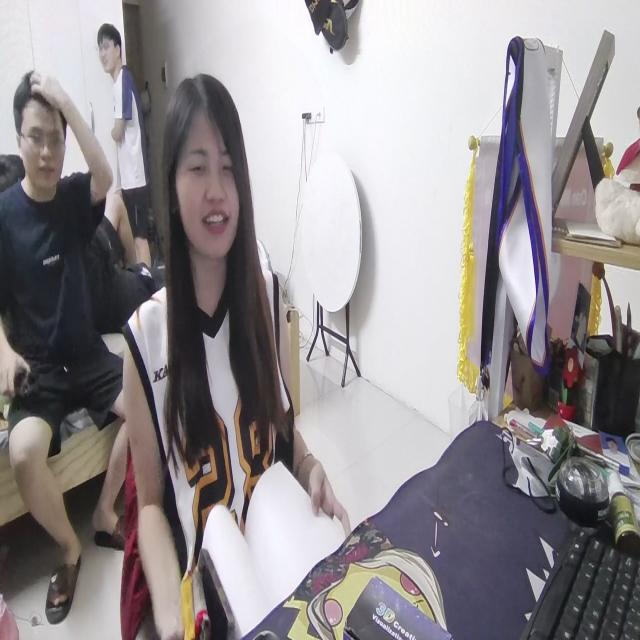book: (194, 459, 350, 626)
extra_person: (0, 68, 136, 611), (99, 19, 154, 239)
student: (125, 81, 356, 640)
